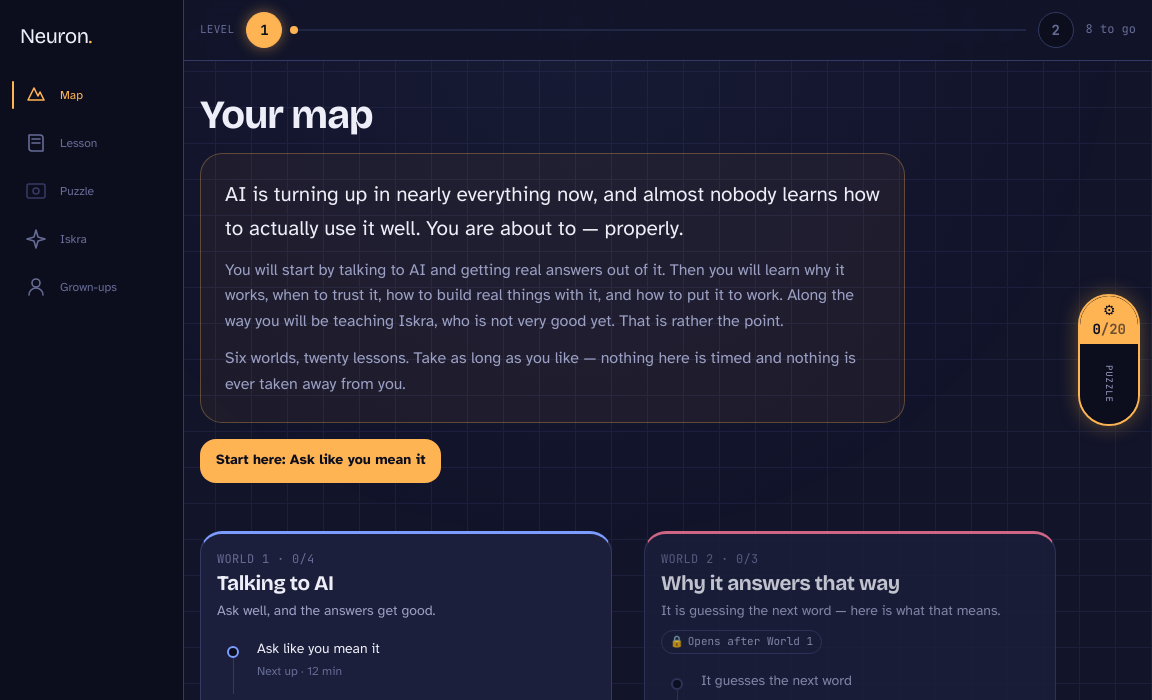
Test: the persistent machine strip › takes you to the machine page when tapped
This screenshot has width=1152, height=700.
Click the link "Puzzle" at (59, 191), box [24, 179, 94, 203]
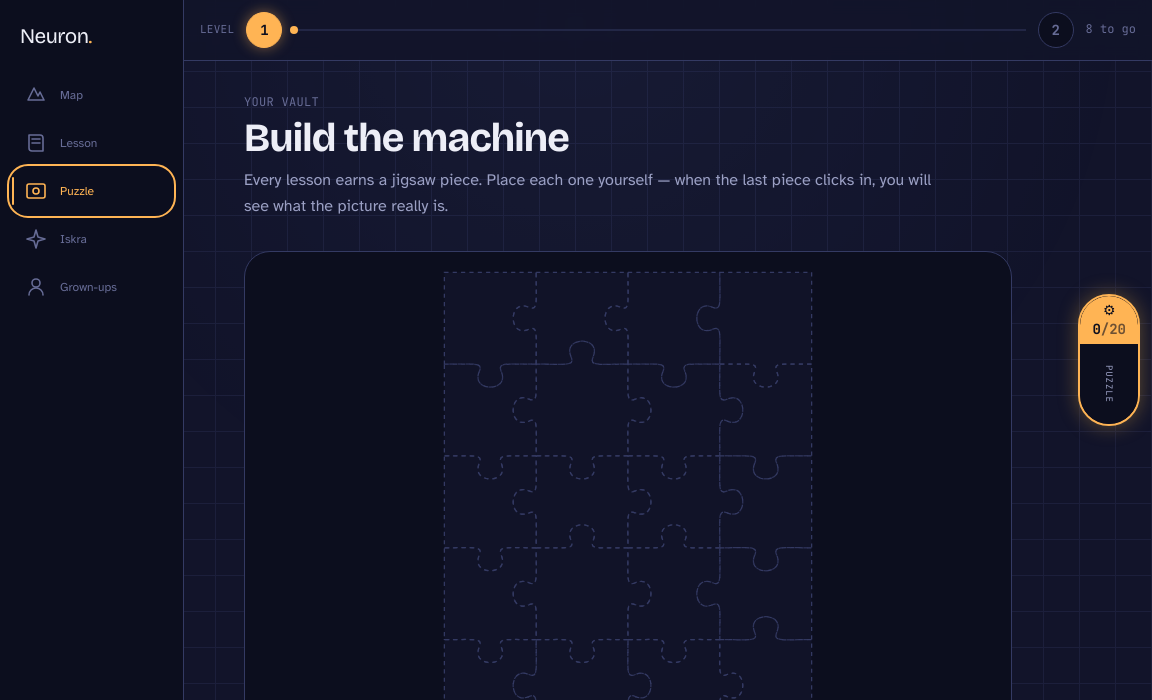
Expected: the heading "Build the machine" is shown, [244, 114, 569, 162]
